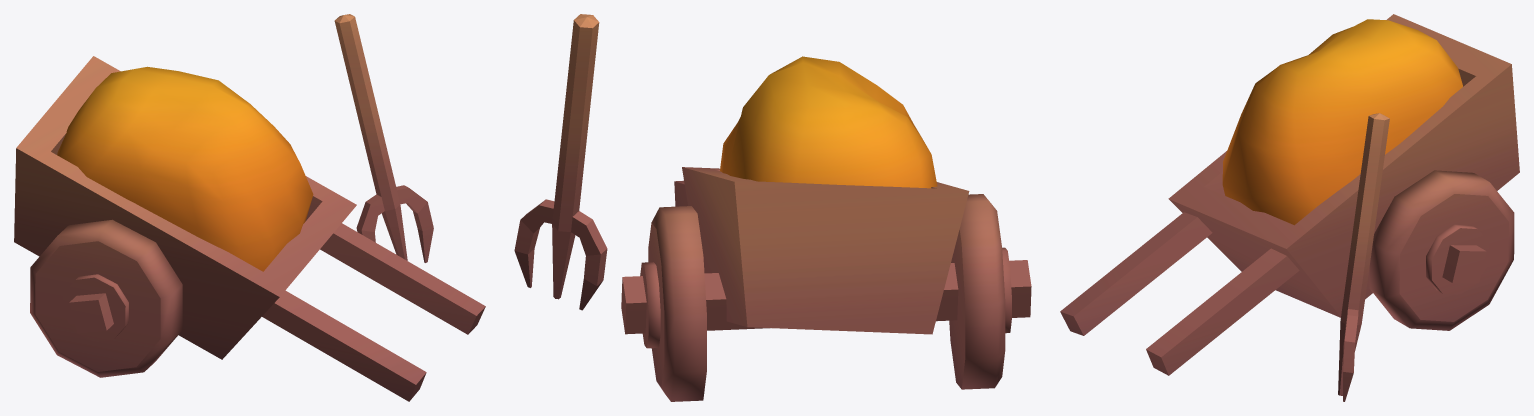
File: Hay_Cart1.obj
The picture shows the model from 3 angles, left to right: view 1: azimuth 30°, elevation 25°; view 2: azimuth 150°, elevation 25°; view 3: azimuth 270°, elevation 25°; orthographic projection. The views are drawn at different scales.
Parts seen in each view (by area): view 1: {mesh}Hay_Cart1_Cylinder.029; view 2: {mesh}Hay_Cart1_Cylinder.029; view 3: {mesh}Hay_Cart1_Cylinder.029.
Part boxes in pixels (<box>): {mesh}Hay_Cart1_Cylinder.029: <box>14,14,485,401</box>; {mesh}Hay_Cart1_Cylinder.029: <box>514,14,1031,401</box>; {mesh}Hay_Cart1_Cylinder.029: <box>1060,14,1519,401</box>.
Size of the model in its own units: 98.85 by 61.87 by 96.61.
Materials: 1 (1 with a texture image).
